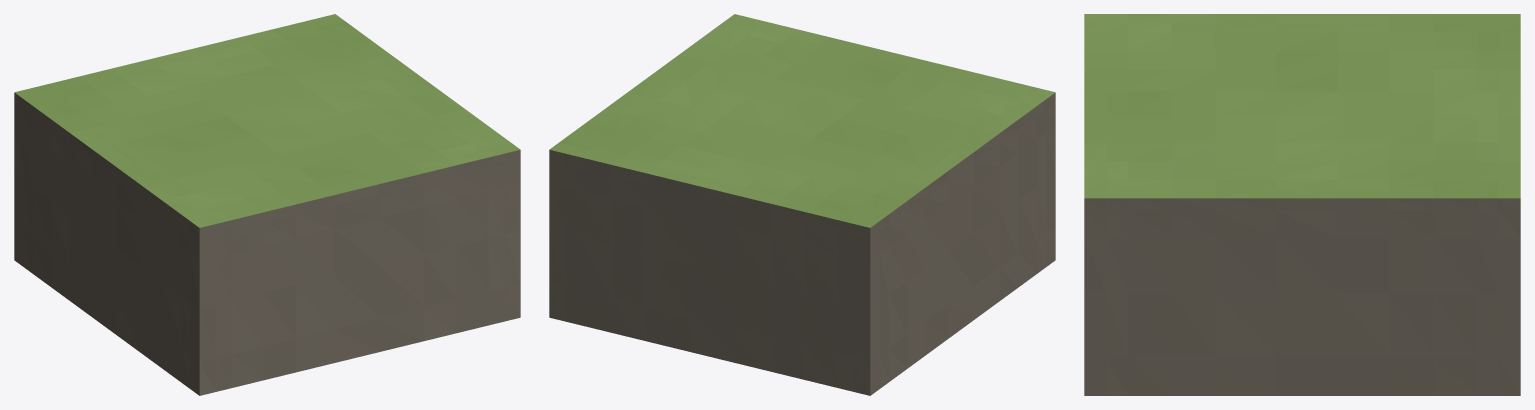
File: grass_flat_01.glb
3 views of the same model, side by side, from view 1: azimuth 30°, elevation 25°; view 2: azimuth 150°, elevation 25°; view 3: azimuth 270°, elevation 25° (orthographic). The views are drawn at different scales.
Parts seen in each view (by area): view 1: grass_flat_01; view 2: grass_flat_01; view 3: grass_flat_01.
Boxes of the visible parts, left/top/right/bottom form: grass_flat_01: left=14, top=14, right=520, bottom=395; grass_flat_01: left=549, top=14, right=1055, bottom=395; grass_flat_01: left=1084, top=14, right=1520, bottom=395.
Size of the model in its own units: 1 by 0.5 by 1.
